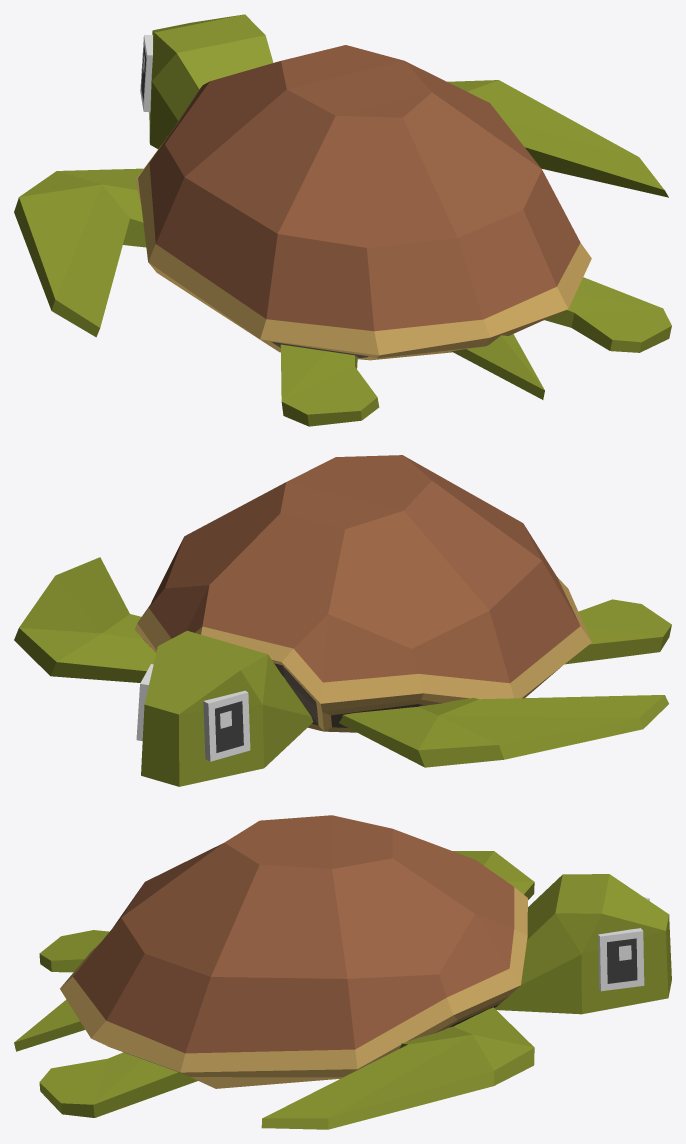
The model's file is frame_02.fbx.
3 views of the same model, one above another, from view 1: azimuth 30°, elevation 25°; view 2: azimuth 150°, elevation 25°; view 3: azimuth 270°, elevation 25° (orthographic). The views are drawn at different scales.
Visible parts, largest first — view 1: Plane.006; view 2: Plane.006; view 3: Plane.006.
Boxes of the visible parts, x1,y1,x2,y2 form: Plane.006: (14, 14, 671, 426); Plane.006: (14, 455, 671, 786); Plane.006: (14, 815, 671, 1129).
Bounding box in the file's own units: 10.22 × 3.45 × 10.48.
